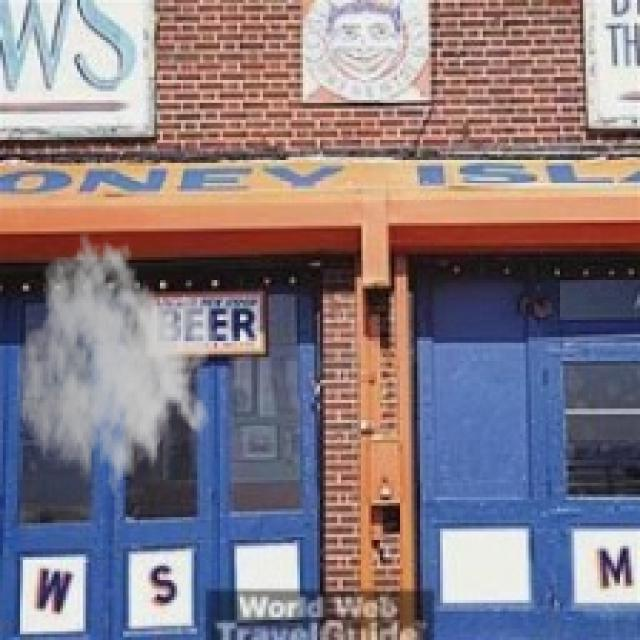Smoke: (14, 232, 217, 512)
